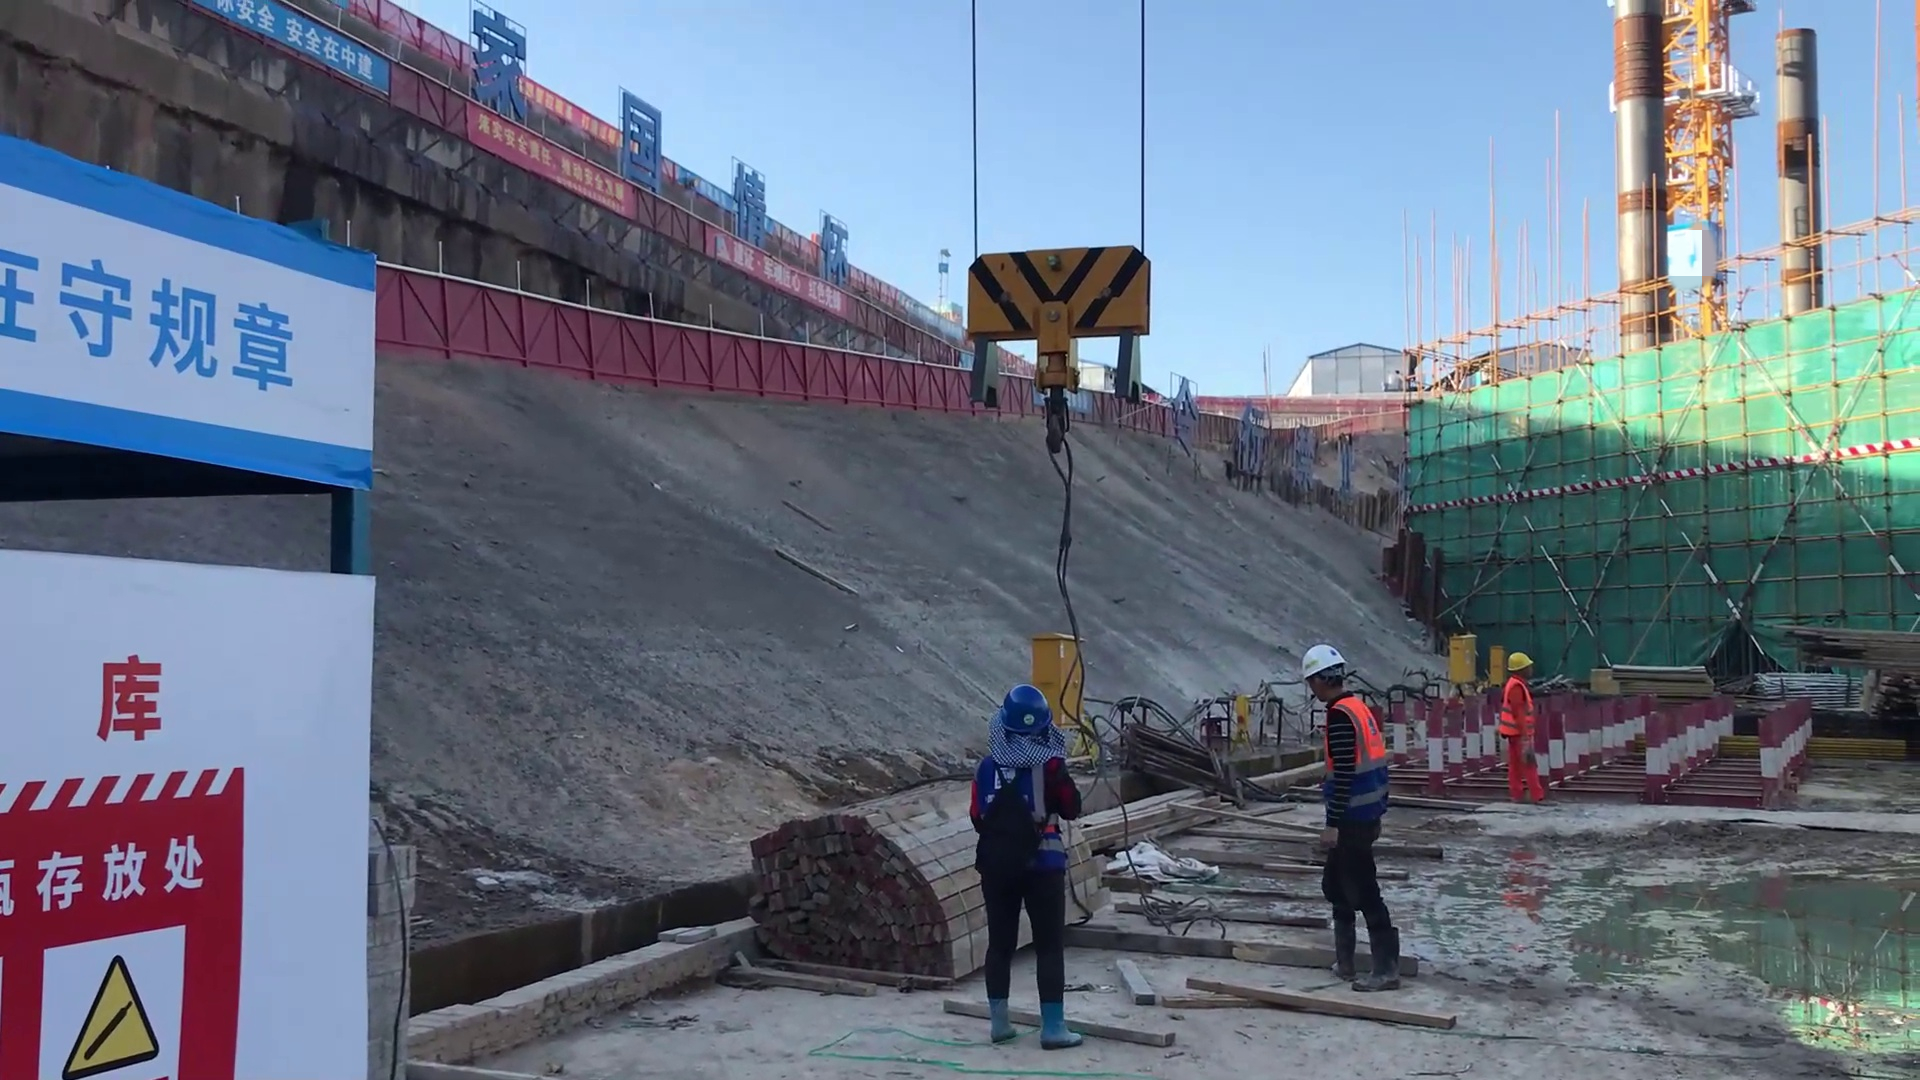ebox: (1030, 631, 1108, 733), (1444, 634, 1476, 689)
fence: (367, 273, 939, 399)
helmet: (971, 671, 1063, 753), (1291, 638, 1356, 704), (1493, 635, 1536, 681)
hook: (956, 240, 1163, 415)
person: (959, 679, 1085, 1061), (1285, 641, 1410, 1001), (1486, 649, 1564, 807)
slogan: (1, 228, 341, 435), (25, 794, 268, 1080), (225, 1, 406, 113), (464, 109, 630, 227)
vest: (1319, 701, 1385, 769), (1491, 679, 1544, 741)
wood: (695, 755, 951, 994), (1764, 615, 1920, 679)
